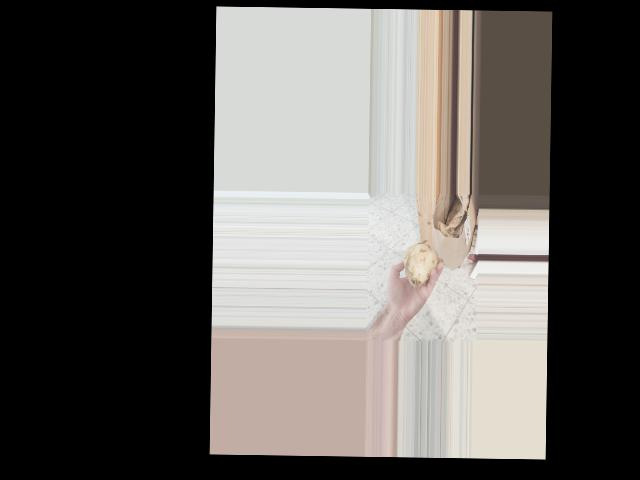onion: (400, 240, 440, 288)
